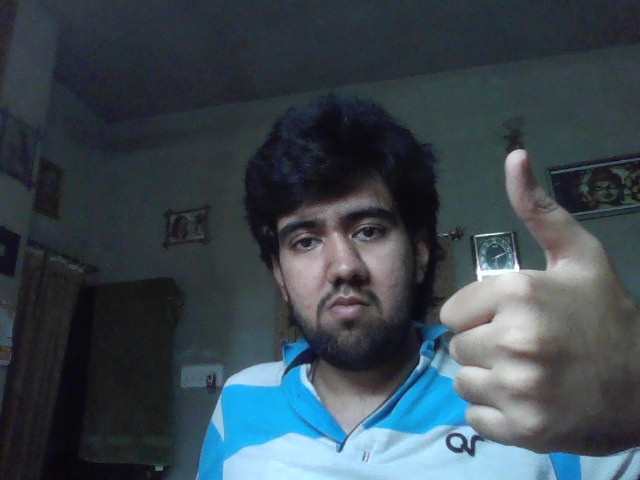Ok: (441, 148, 637, 455)
